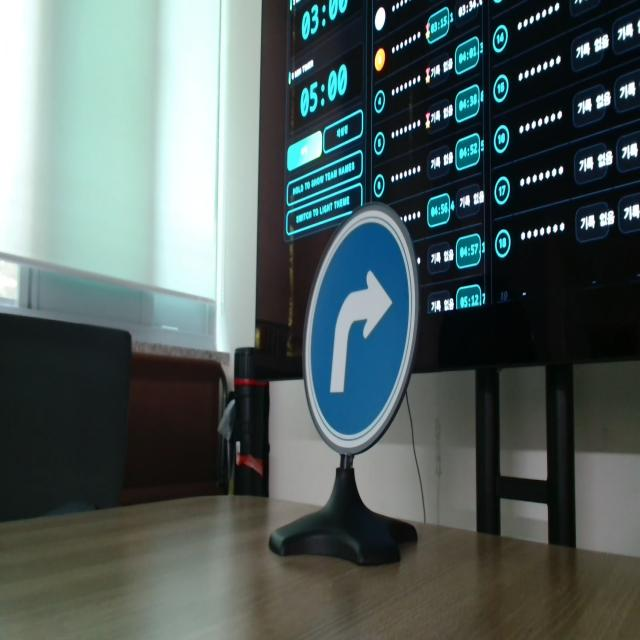right_dierection: (299, 187, 443, 470)
